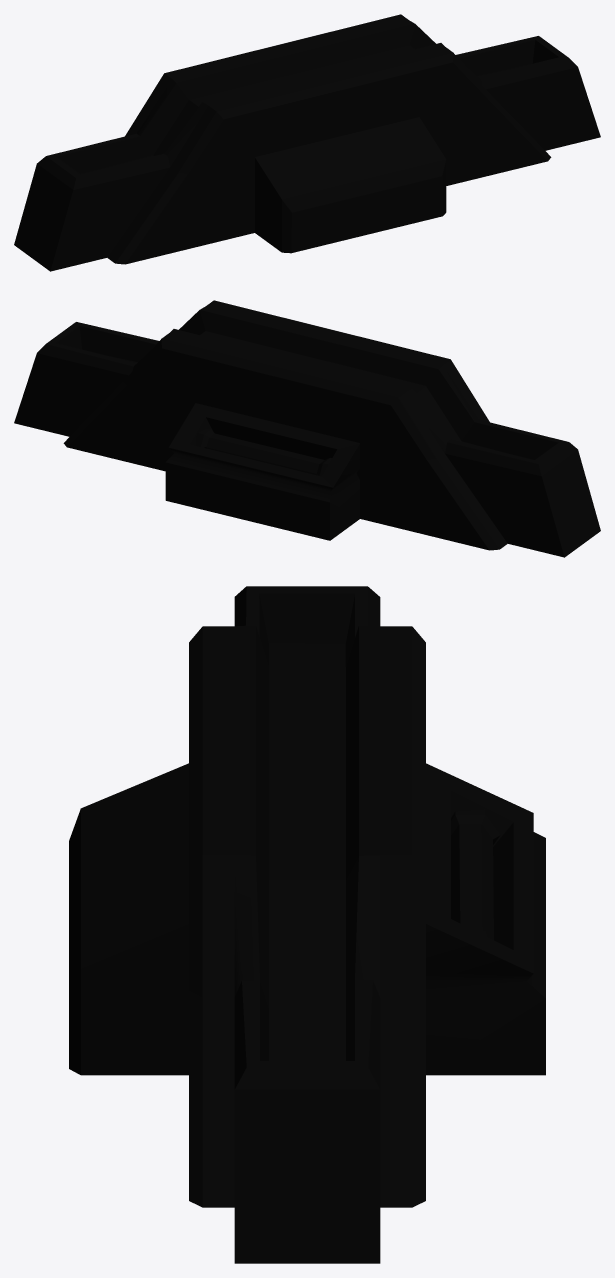
Rendered from cyber_SM_Prop_Hologram_Stand_01.gltf.
3 renders of one model, top to bottom at view 1: azimuth 30°, elevation 25°; view 2: azimuth 150°, elevation 25°; view 3: azimuth 270°, elevation 25°, orthographic. The views are drawn at different scales.
Visible parts, largest first — view 1: SM_Prop_Hologram_Stand_01; view 2: SM_Prop_Hologram_Stand_01; view 3: SM_Prop_Hologram_Stand_01.
Part boxes in pixels (bbox=[...]): SM_Prop_Hologram_Stand_01: bbox=[14, 14, 600, 271]; SM_Prop_Hologram_Stand_01: bbox=[14, 300, 600, 557]; SM_Prop_Hologram_Stand_01: bbox=[69, 586, 545, 1263].
Size of the model in its own units: 1.85 by 0.4129 by 0.6952.
1 material, 1 textured.
